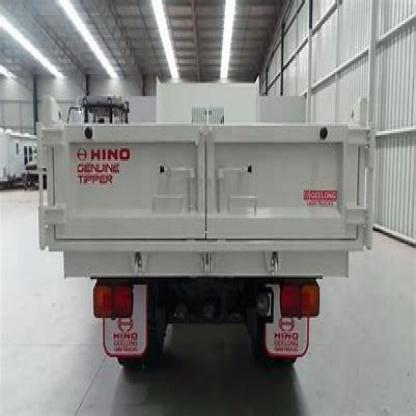dump_truck: (33, 57, 387, 366)
